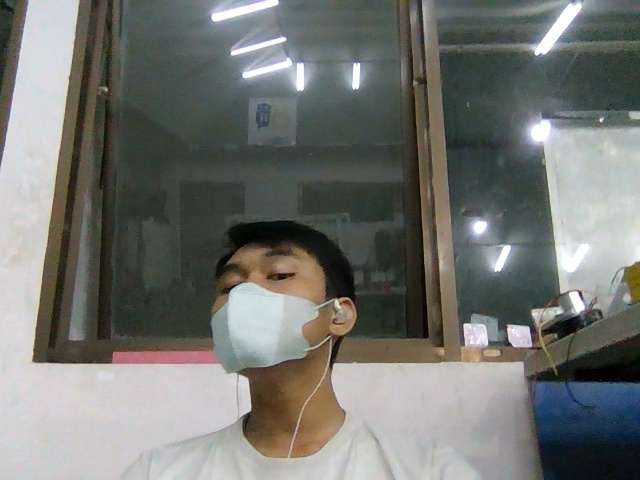mask_on: (212, 282, 318, 374)
